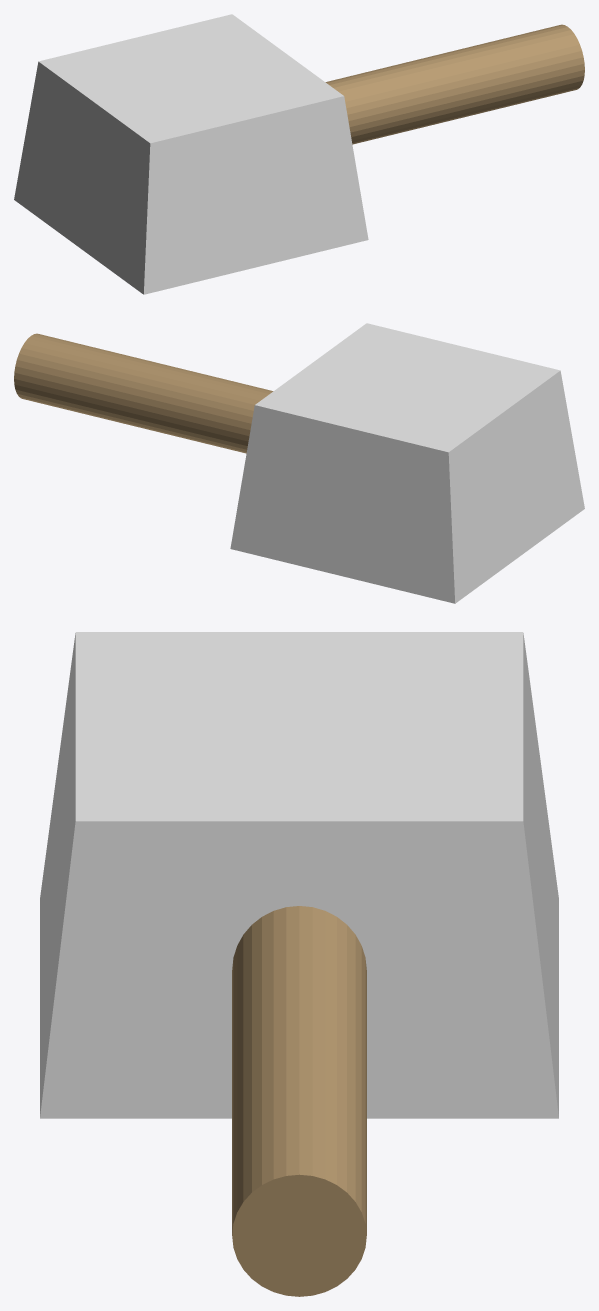
The model's file is TankHead.fbx.
3 views of the same model, one above another, from view 1: azimuth 30°, elevation 25°; view 2: azimuth 150°, elevation 25°; view 3: azimuth 270°, elevation 25° (orthographic). The views are drawn at different scales.
Parts seen in each view (by area): view 1: TankHead; view 2: TankHead; view 3: TankHead.
Part boxes in pixels (left/top/right/bottom): TankHead: left=14, top=14, right=584, bottom=294; TankHead: left=14, top=323, right=584, bottom=603; TankHead: left=40, top=632, right=558, bottom=1296.
Bounding box in the file's own units: 55.49 × 33.29 × 121.
